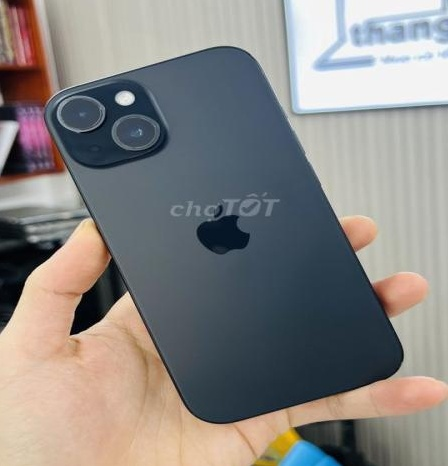scratch: (50, 87, 168, 154)
